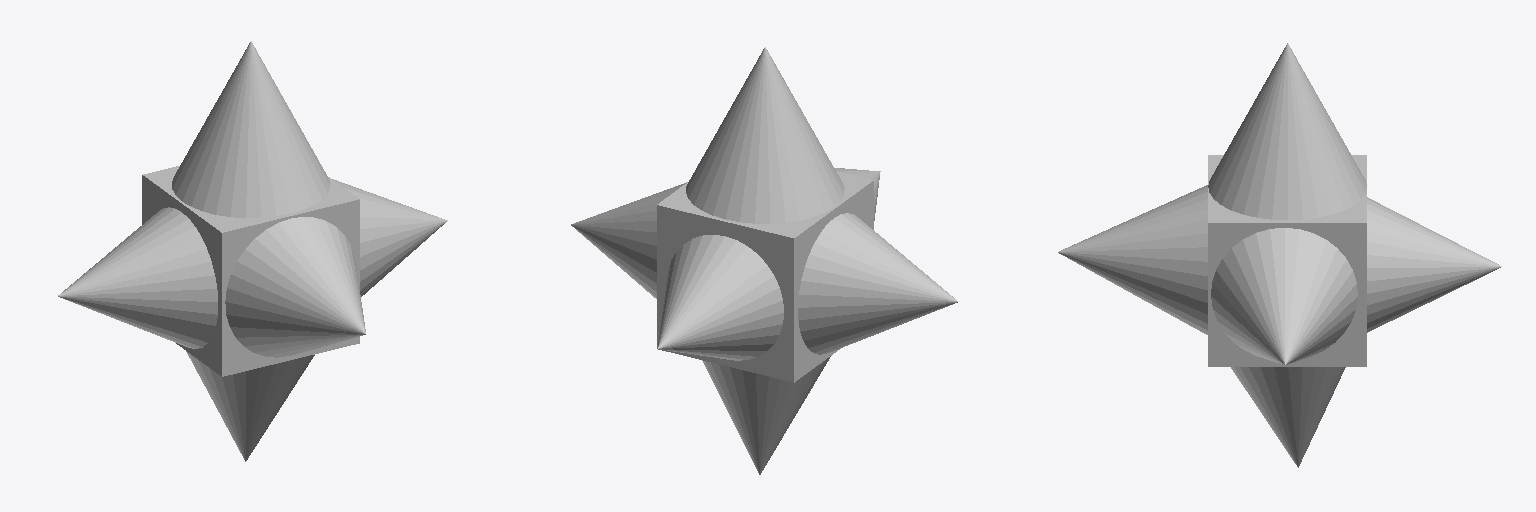
Rendered from enemy.obj.
The picture shows the model from 3 angles: view 1: azimuth 30°, elevation 25°; view 2: azimuth 150°, elevation 25°; view 3: azimuth 270°, elevation 25°; orthographic projection.
Parts seen in each view (by area): view 1: Cube; view 2: Cube; view 3: Cube.
Boxes of the visible parts, box(x1,y1,x2,y2) form: Cube: box(58, 41, 447, 461); Cube: box(571, 47, 957, 474); Cube: box(1058, 43, 1501, 467).
Bounding box in the file's own units: 5.66 × 5.91 × 5.61.